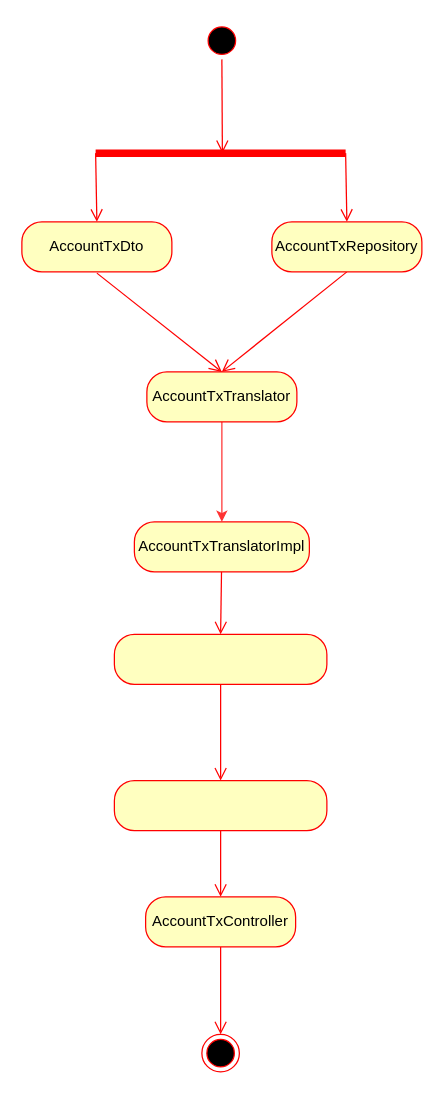
Some shapes in this 444 by 1094 pixel diagram are drawn without their labels. Here are the shapes that lost their labels. From the top down, the centre of each, then its label:
At point 220,658: "ViewMilesByMemberIdFlow".
At point 220,805: "ViewMilesByMemberIdFlowImpl".
